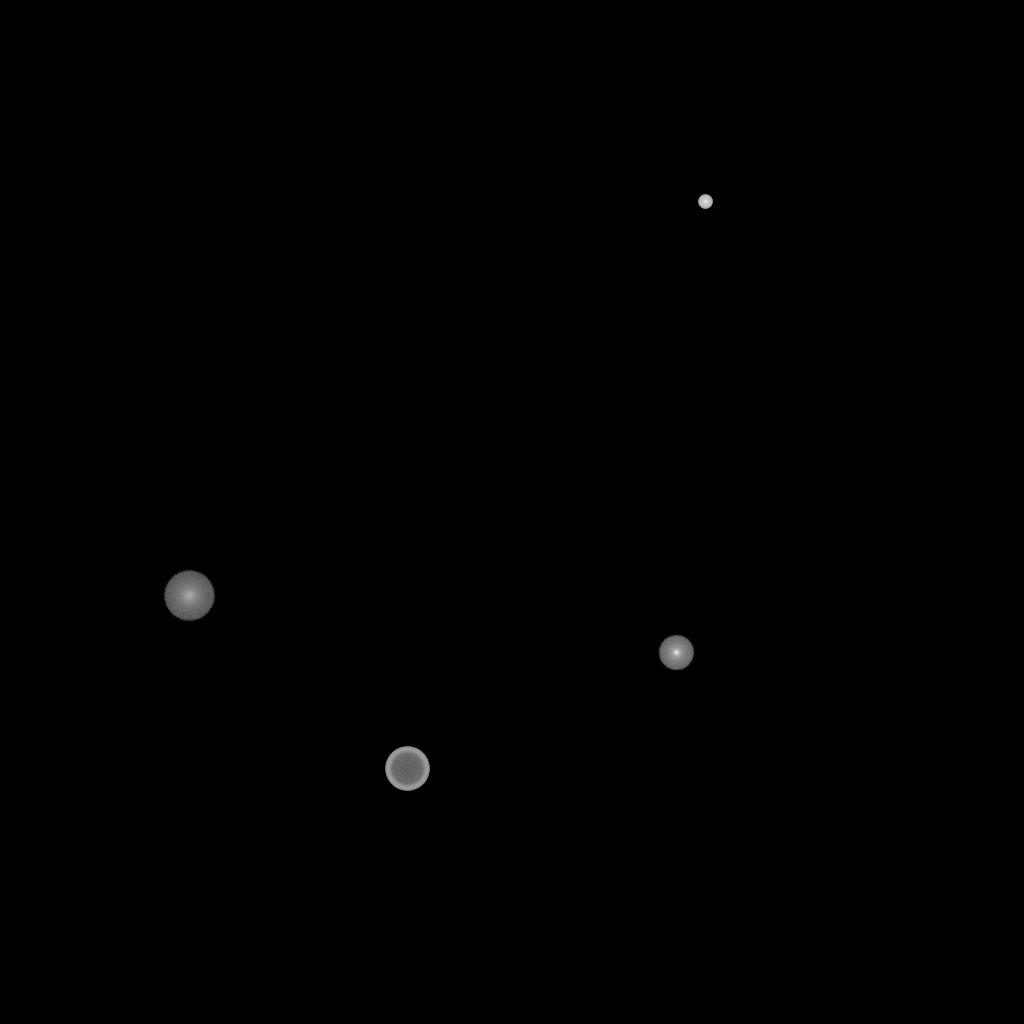depth:-30: (698, 195, 712, 209)
depth:-70: (385, 747, 429, 791)
depth:0: (658, 635, 694, 671)
depth:20: (163, 571, 215, 621)
